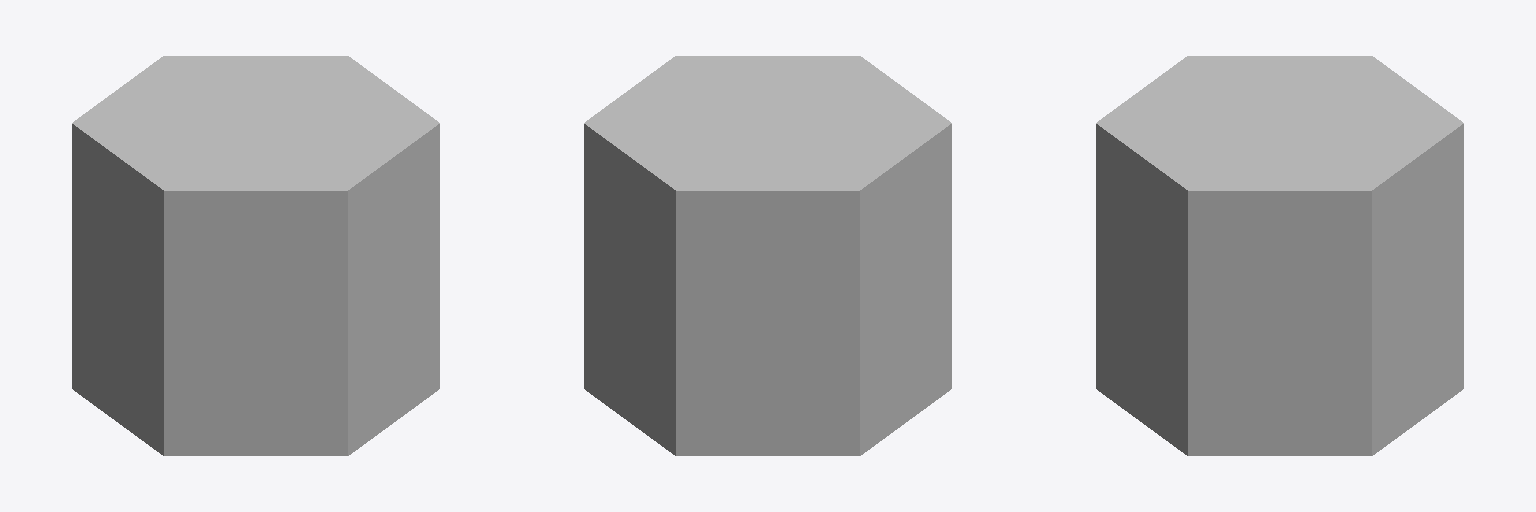
File: thorn0.obj
3 renders of one model, left to right at view 1: azimuth 30°, elevation 25°; view 2: azimuth 150°, elevation 25°; view 3: azimuth 270°, elevation 25°, orthographic.
Parts seen in each view (by area): view 1: thorn_Cylinder; view 2: thorn_Cylinder; view 3: thorn_Cylinder.
Boxes of the visible parts, <box> form: thorn_Cylinder: <box>72,56,439,455</box>; thorn_Cylinder: <box>584,56,951,455</box>; thorn_Cylinder: <box>1096,56,1463,455</box>.
Bounding box in the file's own units: 0.9207 × 0.8457 × 1.06.